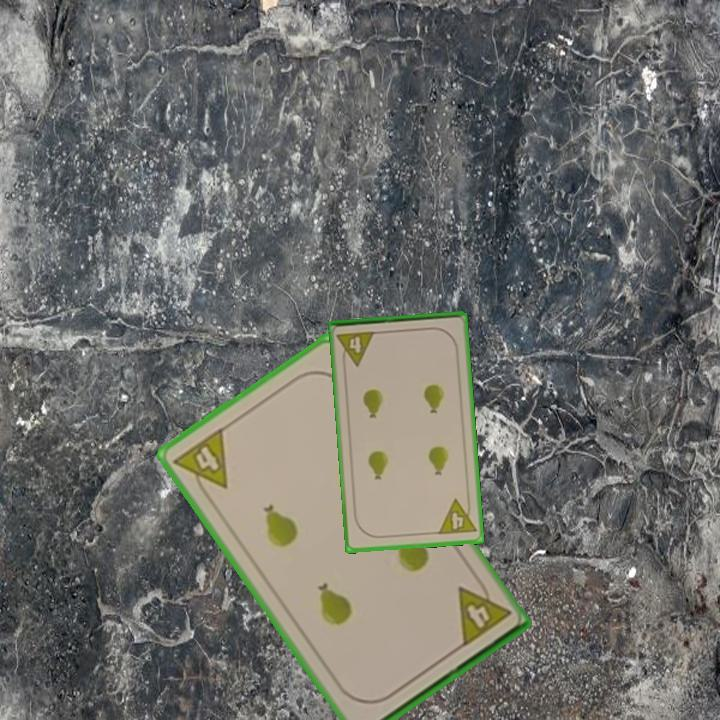4p: (170, 424, 231, 503), (453, 573, 514, 650), (434, 495, 479, 538), (334, 328, 378, 369)
